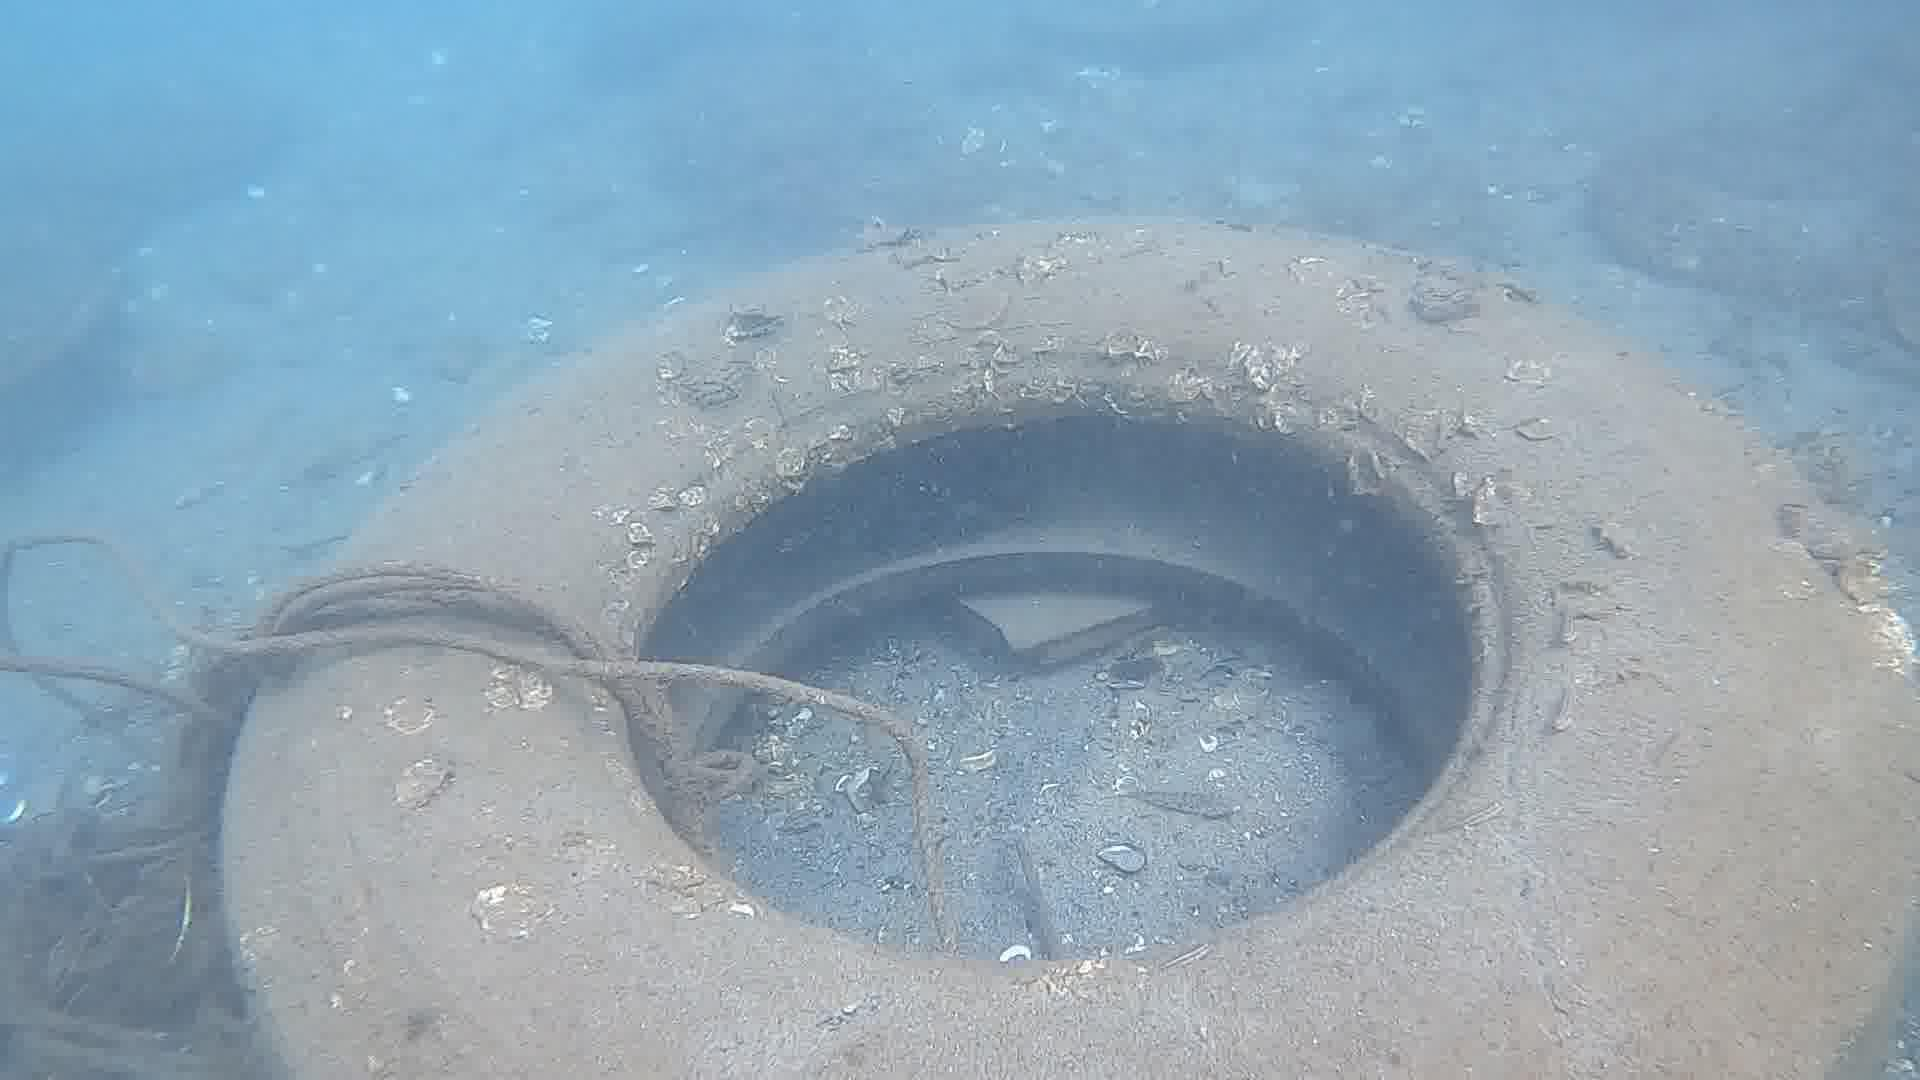bundle of ropes: (0, 531, 963, 1080)
tire: (215, 218, 1920, 1080)
